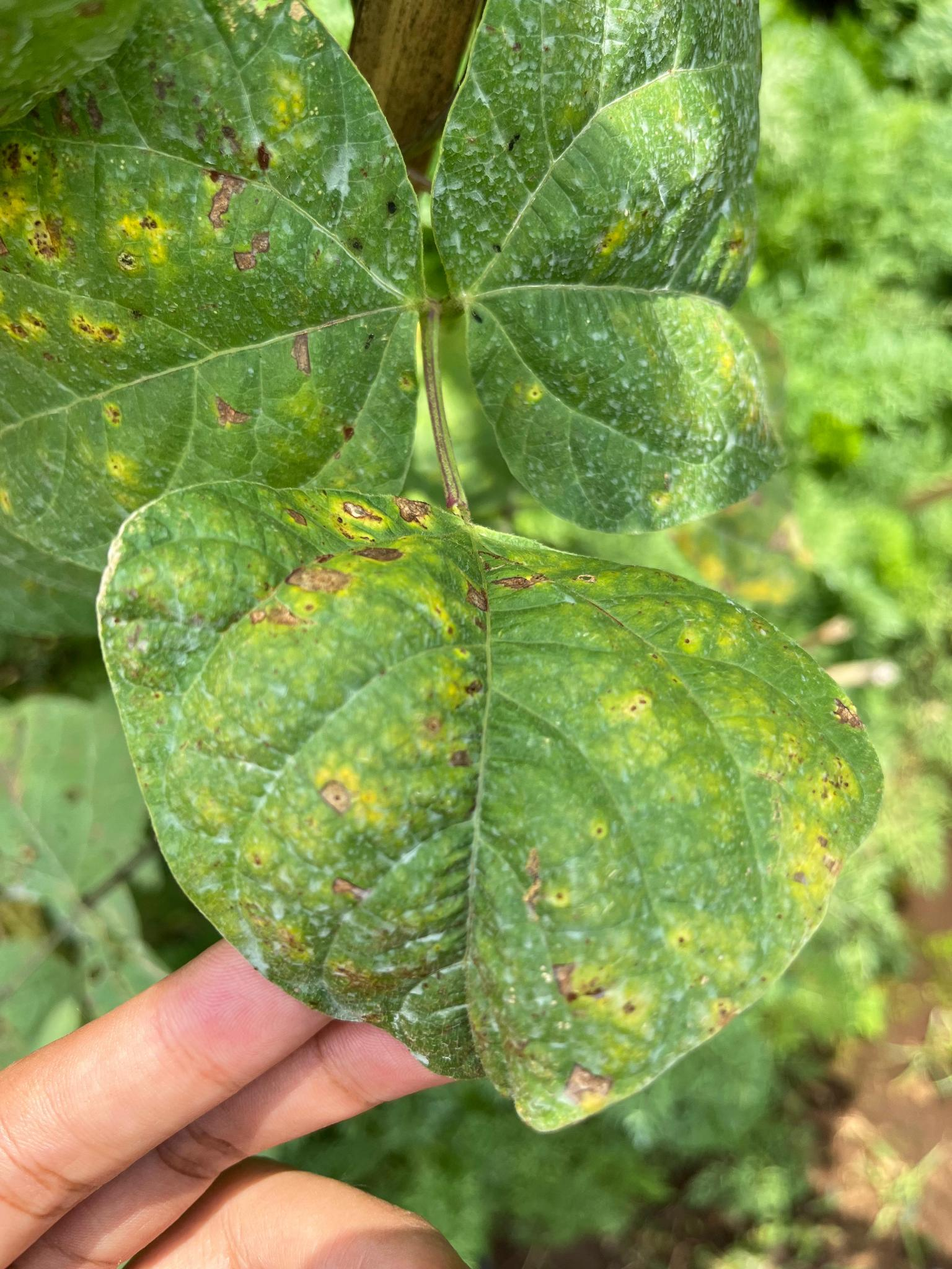hawar: (91, 486, 882, 1121), (0, 44, 353, 300)
